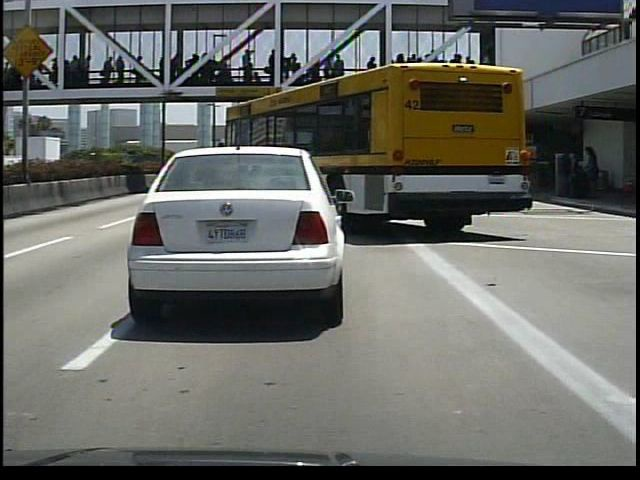person: (579, 143, 608, 205), (555, 141, 583, 202)
